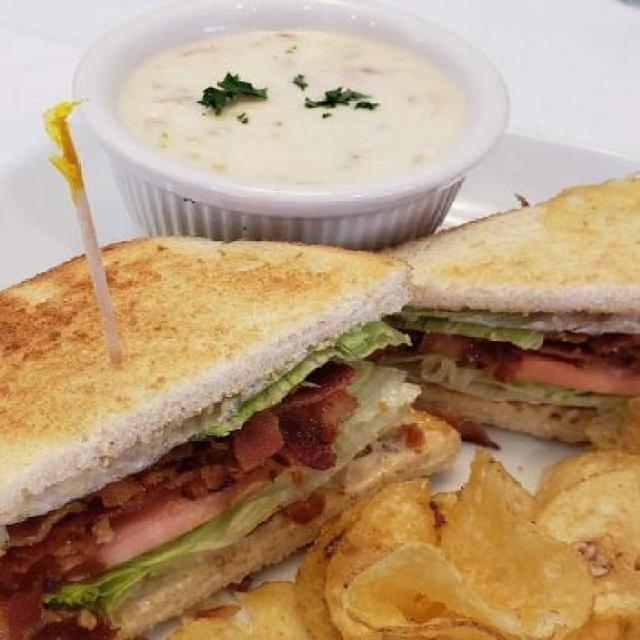clam chowder: (80, 5, 491, 224)
club sandwich: (4, 183, 639, 508)
